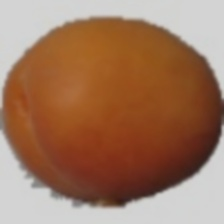apricot: (21, 16, 178, 217)
